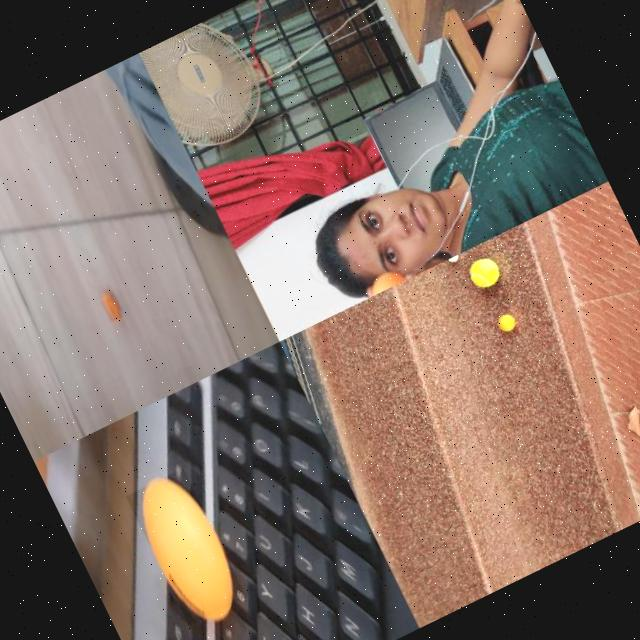ping-pong-ball: (124, 467, 245, 624), (366, 266, 406, 296), (98, 295, 120, 322), (496, 313, 516, 333)
